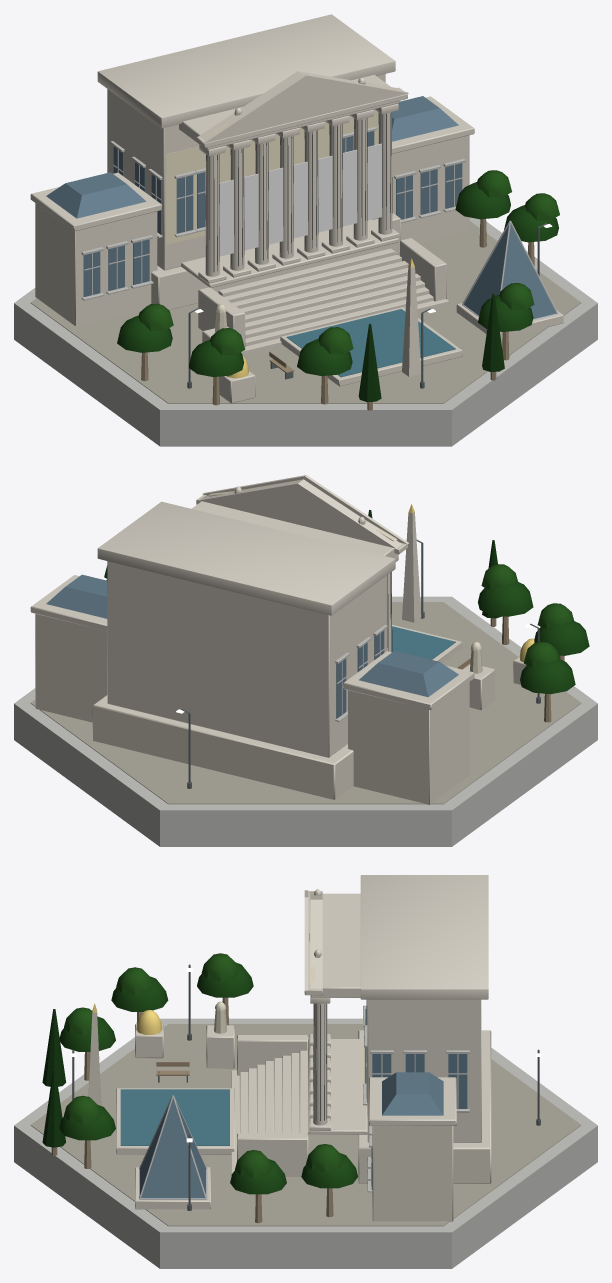
File: museum_med.glb
3 renders of one model, top to bottom at view 1: azimuth 30°, elevation 25°; view 2: azimuth 150°, elevation 25°; view 3: azimuth 270°, elevation 25°, orthographic.
Parts seen in each view (by area): view 1: stone, wall_concrete, pavers, glass, leaf, banner, plaster, dark, wood, steel_dark, metal; view 2: stone, wall_concrete, pavers, glass, leaf, steel_dark, wood; view 3: stone, wall_concrete, pavers, glass, leaf, wood, metal, steel_dark, gold, dark.
Boxes of the visible parts, left/top/right/bottom form: stone: left=30, top=14, right=563, bottom=403; wall_concrete: left=14, top=126, right=597, bottom=446; pavers: left=30, top=221, right=581, bottom=403; glass: left=46, top=96, right=556, bottom=377; leaf: left=117, top=170, right=559, bottom=402; banner: left=219, top=143, right=381, bottom=256; plaster: left=166, top=109, right=378, bottom=244; dark: left=205, top=112, right=392, bottom=271; wood: left=141, top=219, right=534, bottom=410; steel_dark: left=187, top=223, right=546, bottom=388; metal: left=462, top=220, right=558, bottom=320; stone: left=30, top=475, right=526, bottom=804; wall_concrete: left=14, top=596, right=597, bottom=846; pavers: left=30, top=602, right=581, bottom=804; glass: left=46, top=574, right=458, bottom=718; leaf: left=104, top=510, right=589, bottom=694; steel_dark: left=181, top=540, right=540, bottom=788; wood: left=458, top=616, right=564, bottom=722; stone: left=88, top=875, right=491, bottom=1221; wall_concrete: left=14, top=999, right=597, bottom=1268; pavers: left=30, top=1024, right=581, bottom=1226; glass: left=120, top=1000, right=467, bottom=1198; leaf: left=42, top=953, right=357, bottom=1194; wood: left=51, top=997, right=333, bottom=1223; metal: left=139, top=1095, right=207, bottom=1199; steel_dark: left=72, top=964, right=540, bottom=1210; gold: left=92, top=905, right=365, bottom=1083; dark: left=313, top=1004, right=367, bottom=1120.
Bounding box in the file's own units: 21.94 × 12.3 × 24.6.
